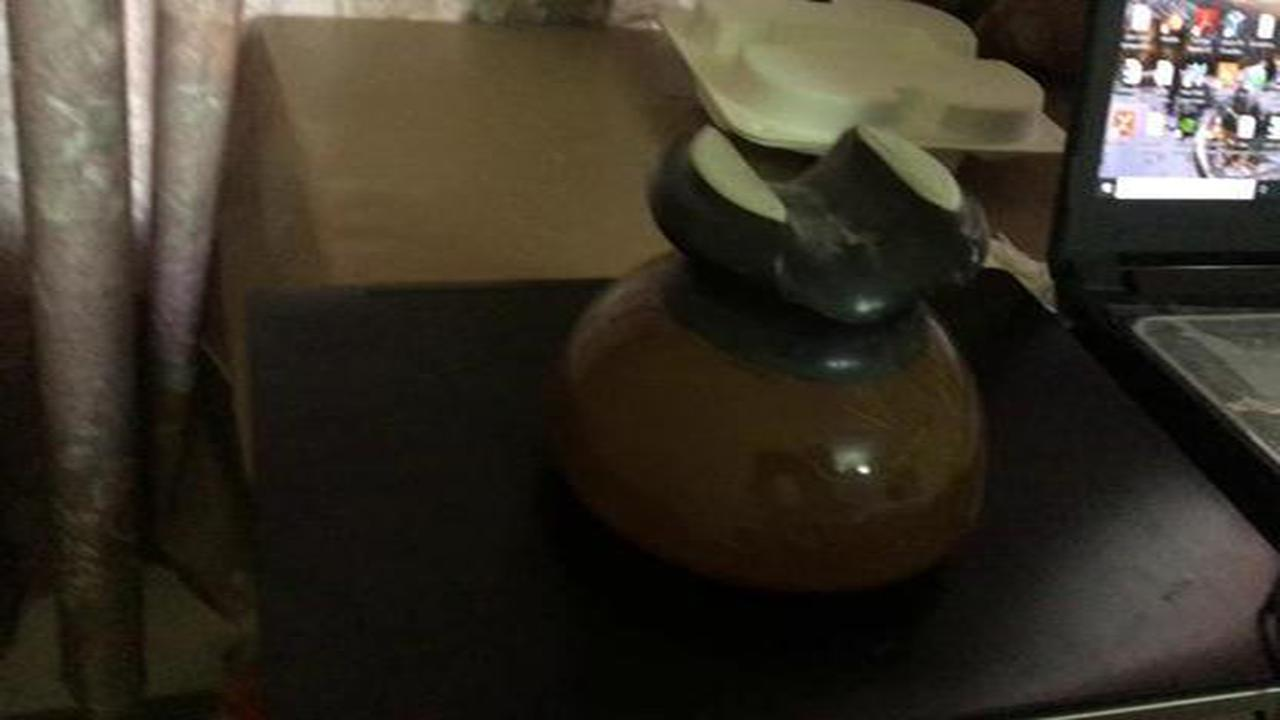insulator_pin: (517, 105, 1062, 610)
